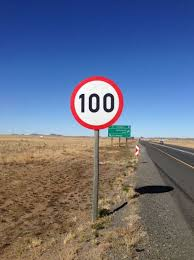Speed_limit_100km: (70, 76, 124, 130)
